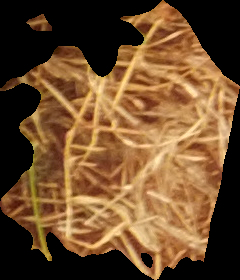soil: (1, 1, 240, 278)
